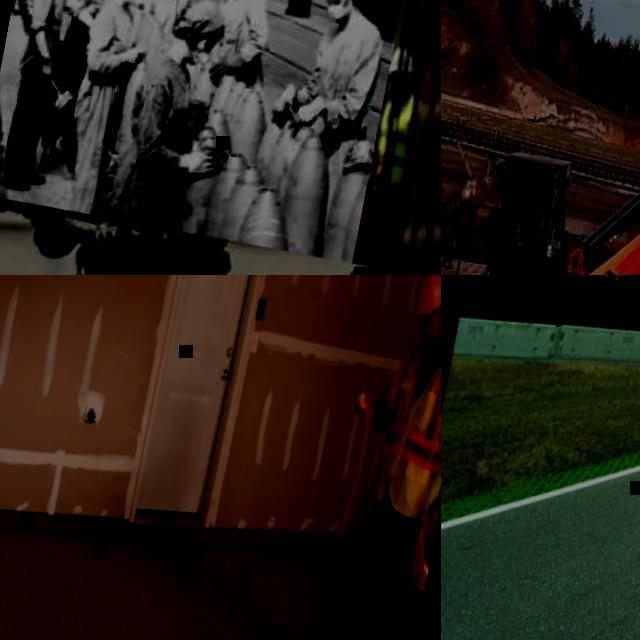helmet: (413, 275, 441, 319), (391, 44, 421, 79)
machinery: (441, 0, 640, 275)
mask: (187, 46, 210, 68), (326, 1, 350, 22), (386, 78, 402, 102), (129, 0, 145, 7)
no_helmet: (174, 0, 230, 40), (536, 191, 544, 200)
no_mask: (421, 318, 441, 339), (538, 203, 542, 210)
no_vest: (126, 52, 200, 172), (308, 13, 368, 98), (92, 0, 140, 82), (209, 0, 260, 49), (25, 0, 68, 28), (59, 0, 100, 18), (528, 206, 542, 232)
person: (299, 275, 441, 640), (109, 0, 251, 234), (52, 0, 154, 217), (355, 48, 441, 270), (0, 0, 94, 194), (10, 205, 238, 275), (29, 0, 119, 176), (288, 0, 397, 135), (188, 0, 290, 84), (524, 190, 556, 251)
vest: (365, 325, 441, 490), (372, 95, 426, 186)
